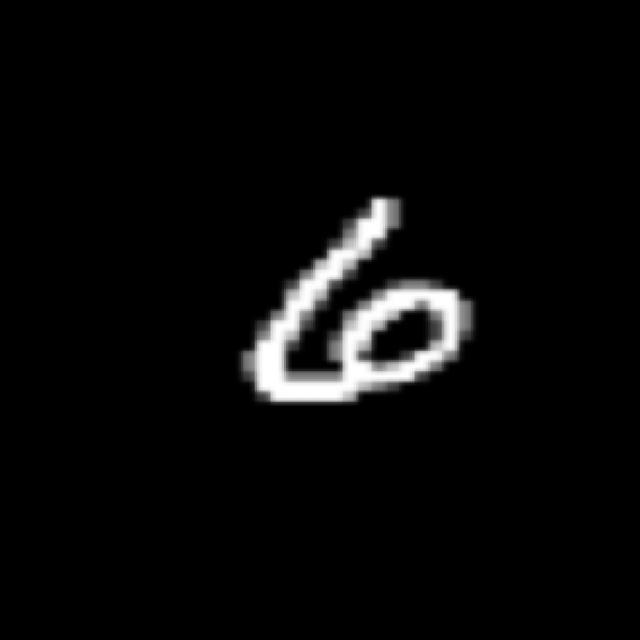six -6-: (230, 189, 478, 404)
